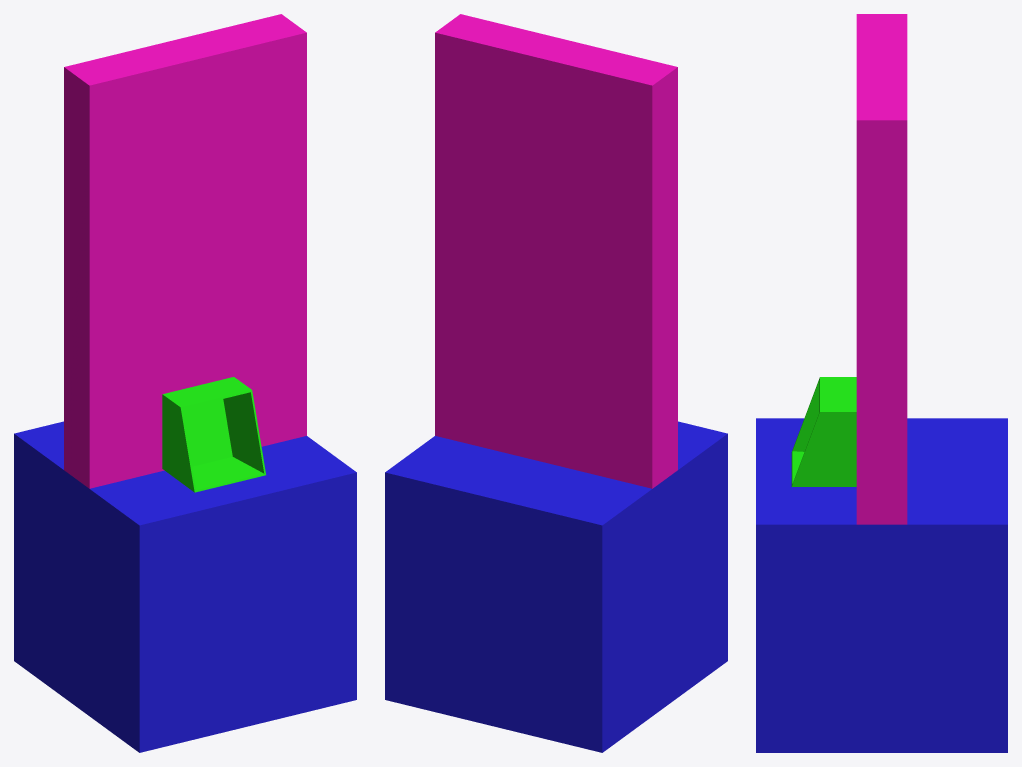
File: Vent.fbx
3 views of the same model, side by side, from view 1: azimuth 30°, elevation 25°; view 2: azimuth 150°, elevation 25°; view 3: azimuth 270°, elevation 25° (orthographic).
Parts seen in each view (by area): view 1: Vent (×2); view 2: Vent (×2); view 3: Vent (×2).
Part boxes in pixels (x1=…): Vent (×2): x1=14, y1=14, x2=356, y2=752; Vent (×2): x1=385, y1=14, x2=727, y2=752; Vent (×2): x1=756, y1=14, x2=1007, y2=752.
Bounding box in the file's own units: 39.5 × 109 × 39.5.
